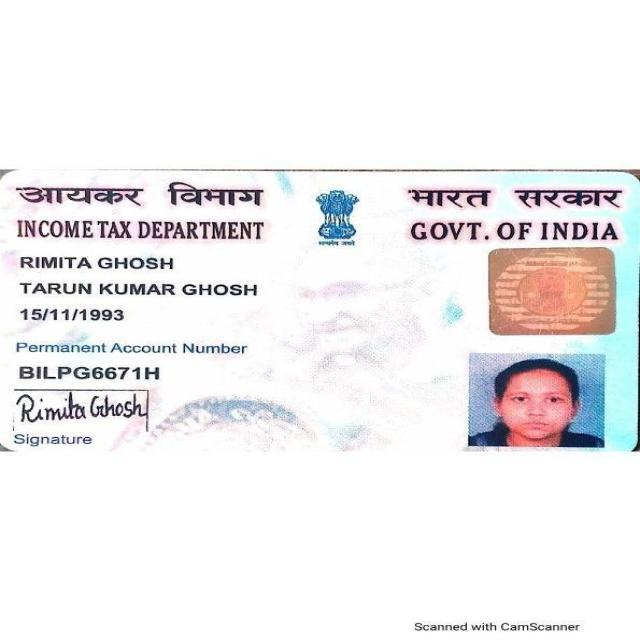pan_card: (1, 171, 634, 450)
